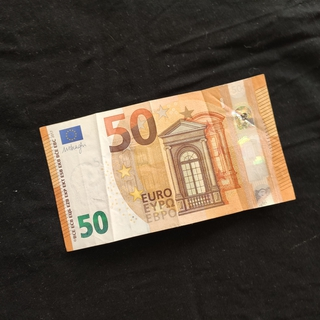50EUROFront: (38, 71, 297, 253)
